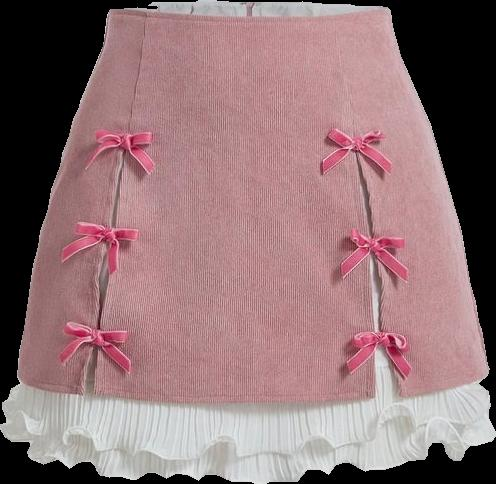Hemline: (16, 147, 492, 408), (0, 420, 495, 483)
Waistline: (107, 3, 390, 22)
